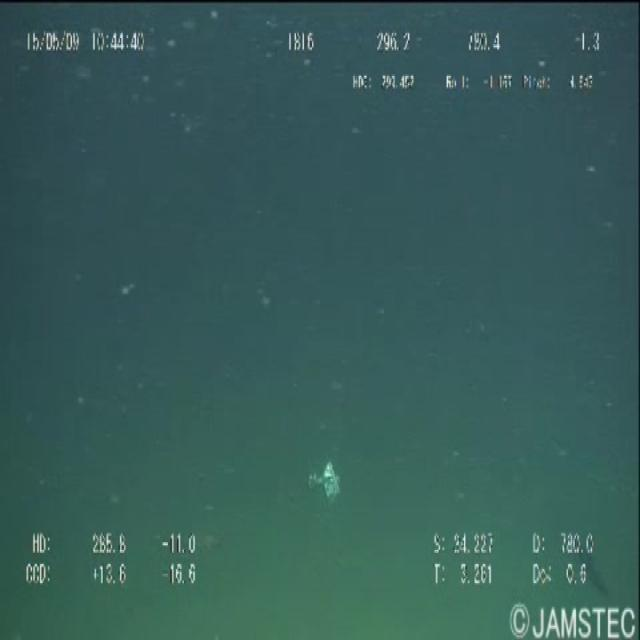Litter: (307, 460, 359, 516)
